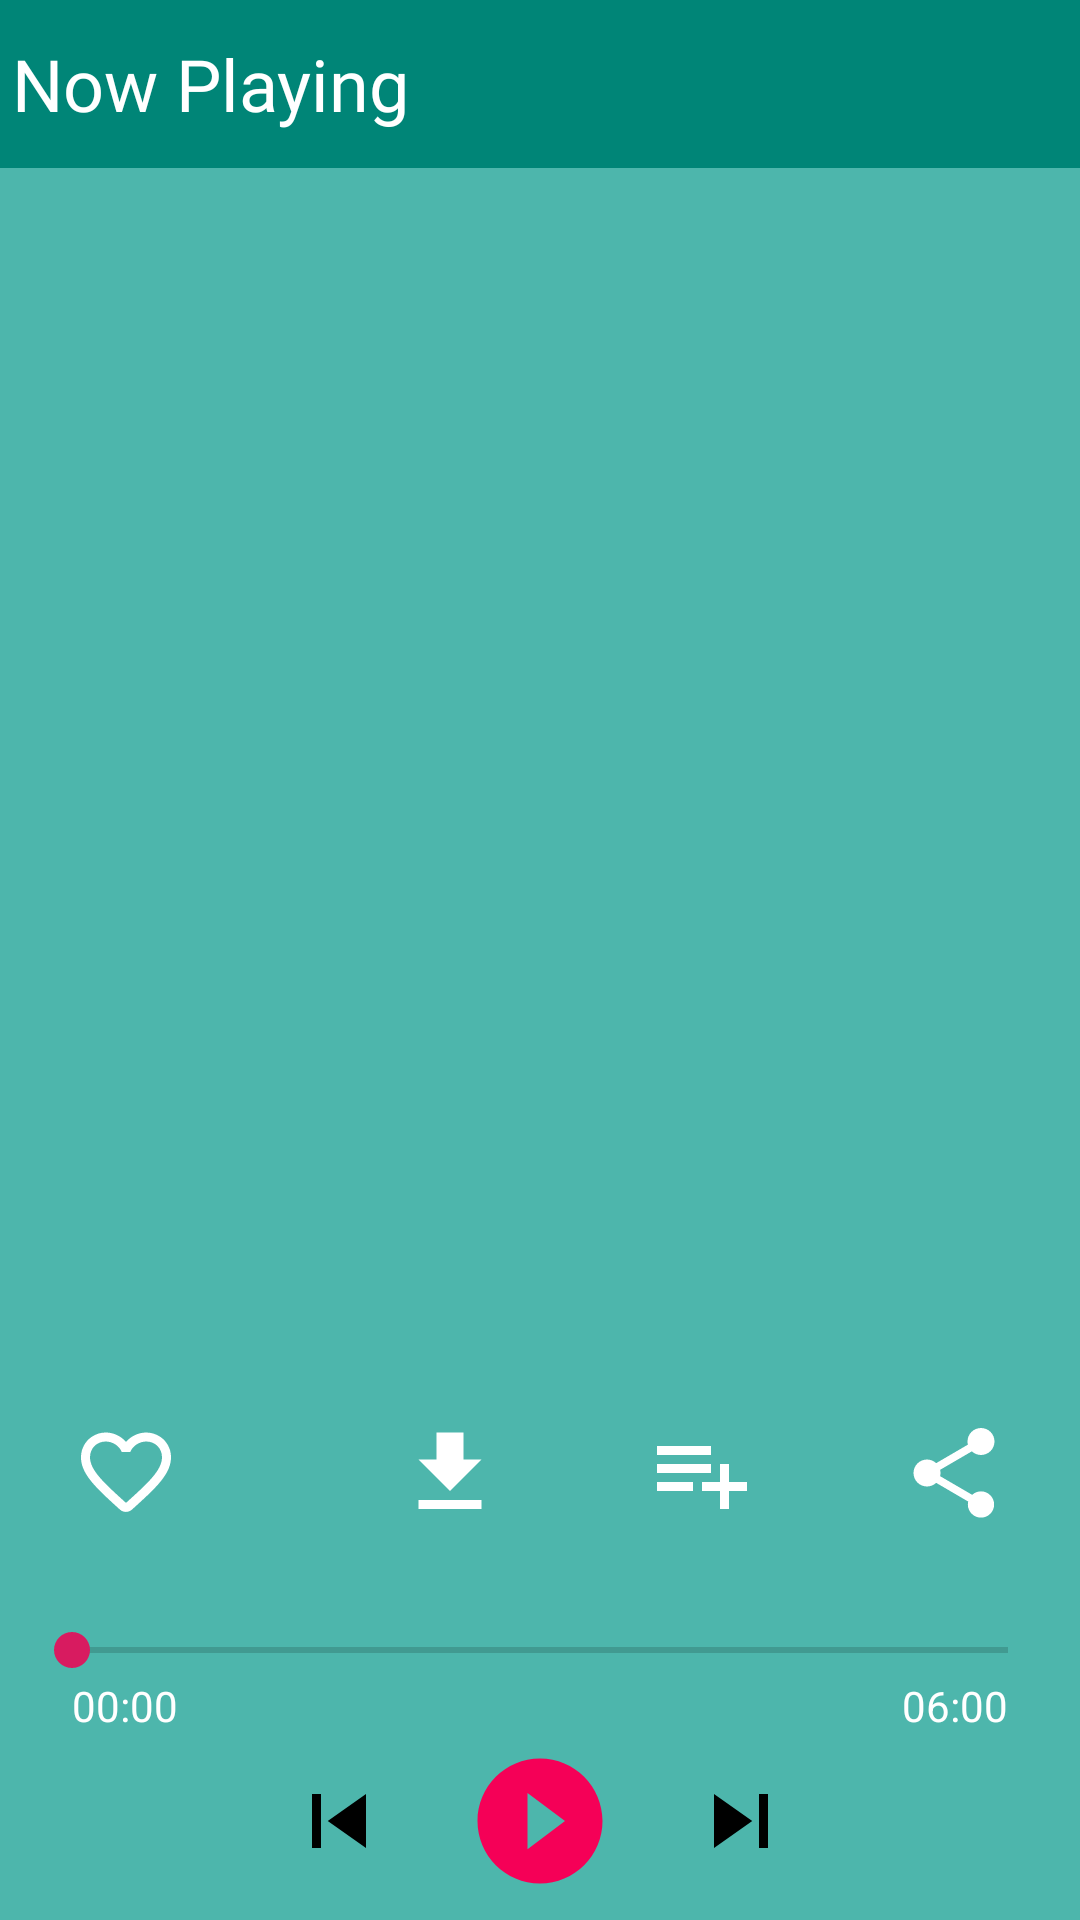

Icon bounding boxes for this 1080w x 1920h phone screenshot, format (x1, y1, x2, y2):
download: (418, 1432, 482, 1509)
fav: (81, 1432, 171, 1512)
play circle: (477, 1758, 603, 1884)
playlist: (657, 1446, 747, 1509)
share: (913, 1428, 995, 1518)
skip next: (714, 1794, 768, 1848)
skip previous: (312, 1794, 366, 1848)
